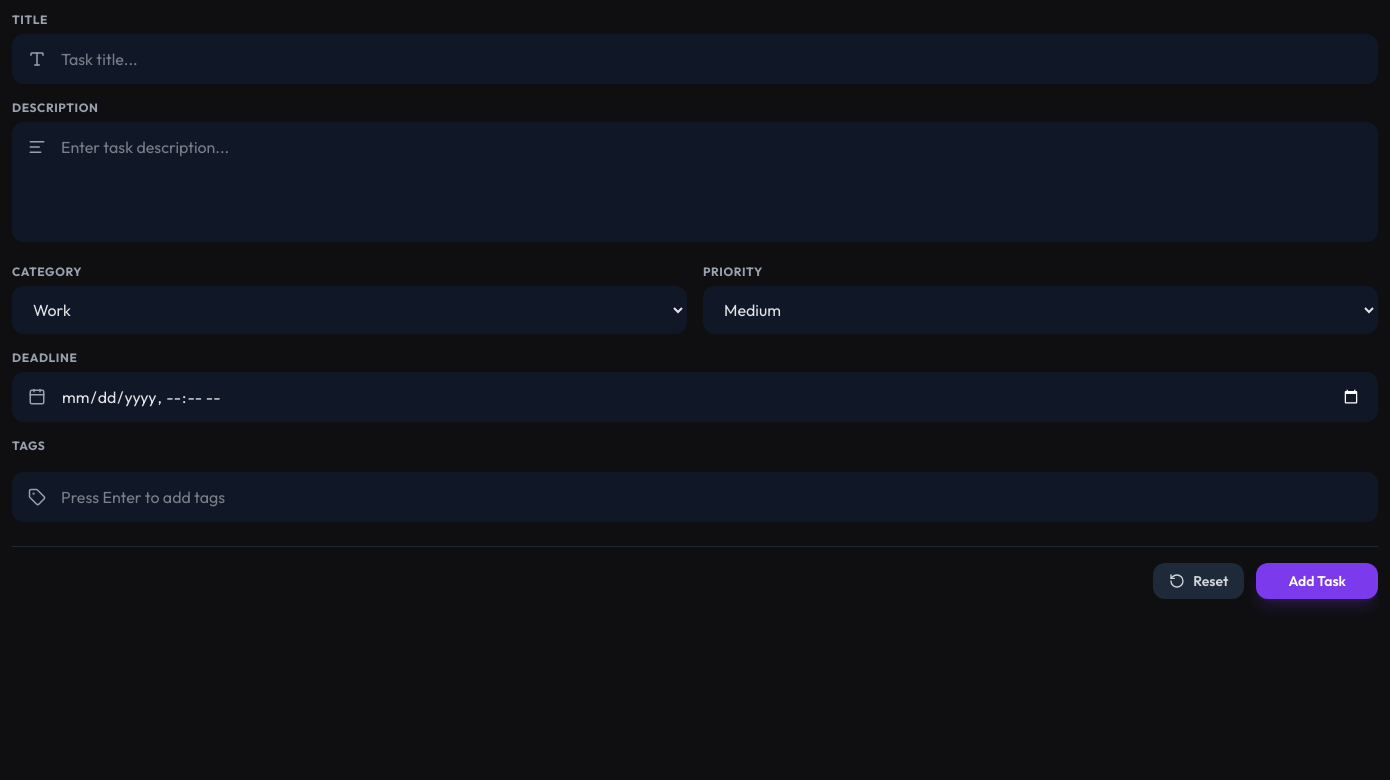
Test case: TaskForm Component › should show how many characters are missing when title is too short
Type "Go" into the field with placeholder "Task title..." at [695, 59], box x1=12 y1=34 x2=1378 y2=84
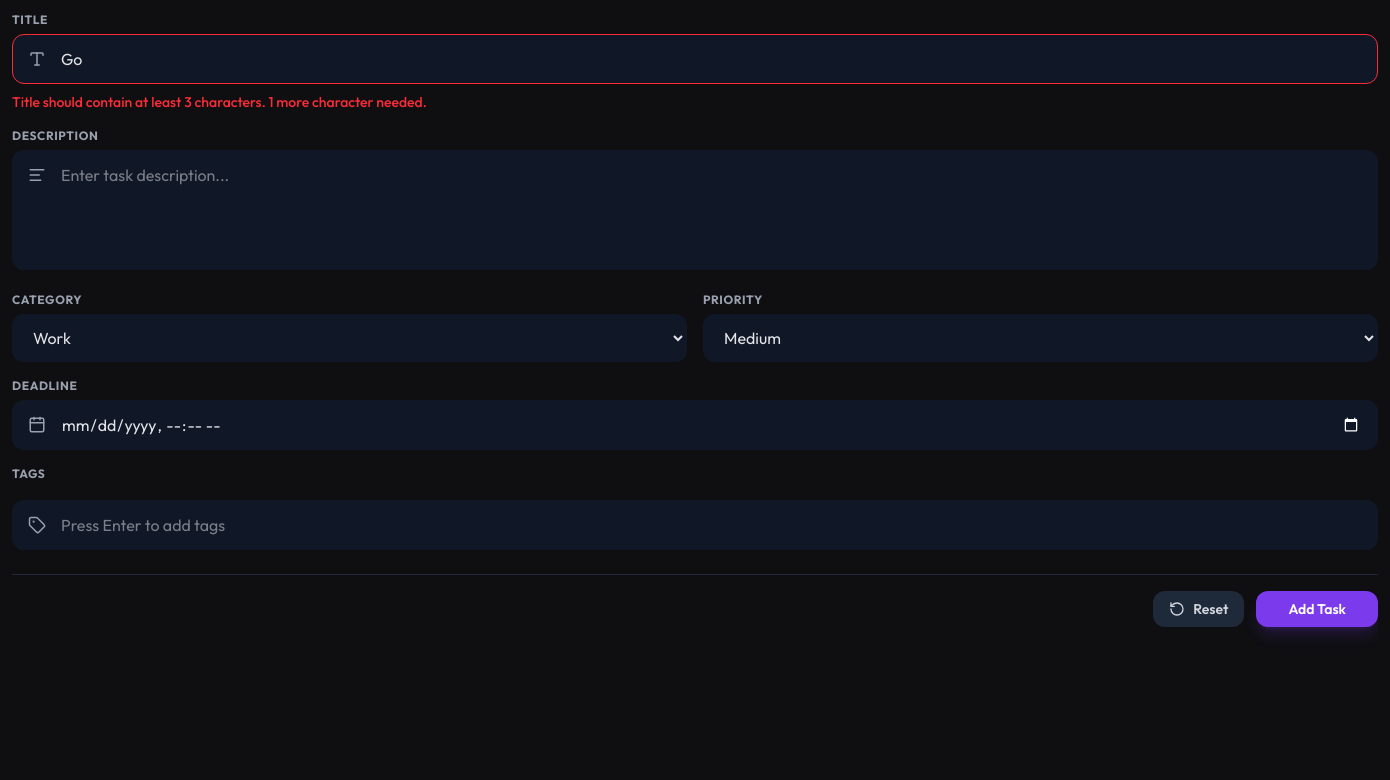
Expected: the text "Title should contain at least 3 characters. 1 more character needed." is shown, x1=12 y1=93 x2=427 y2=111
